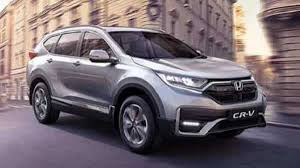Honda: (28, 28, 267, 152)
